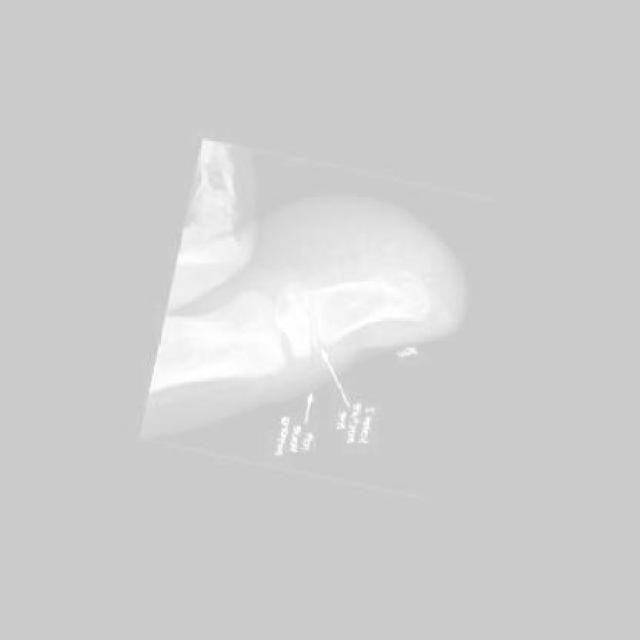Fracture: (285, 289, 354, 382)
